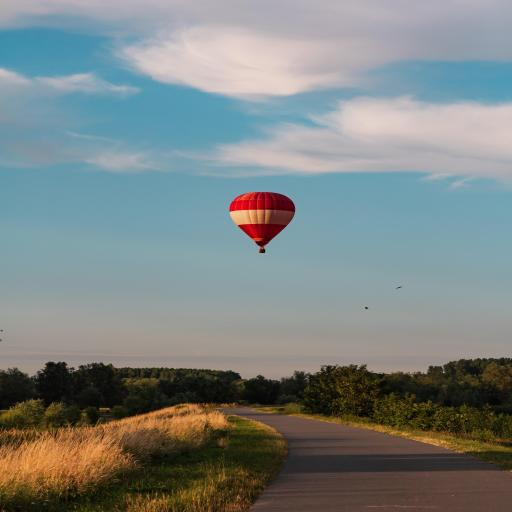hot air ballon: (229, 192, 296, 253)
